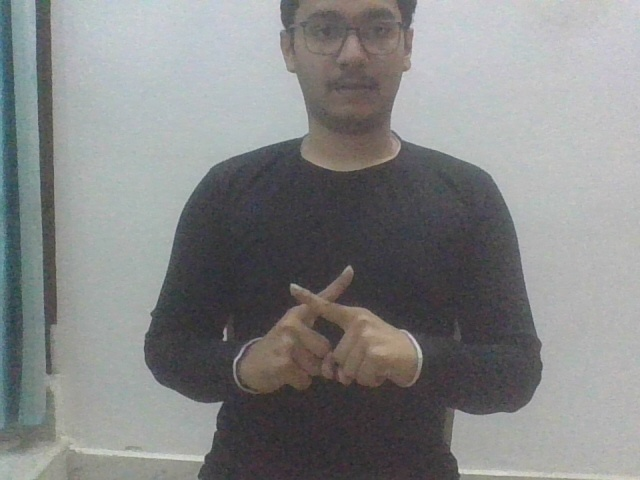X: (248, 263, 407, 400)
